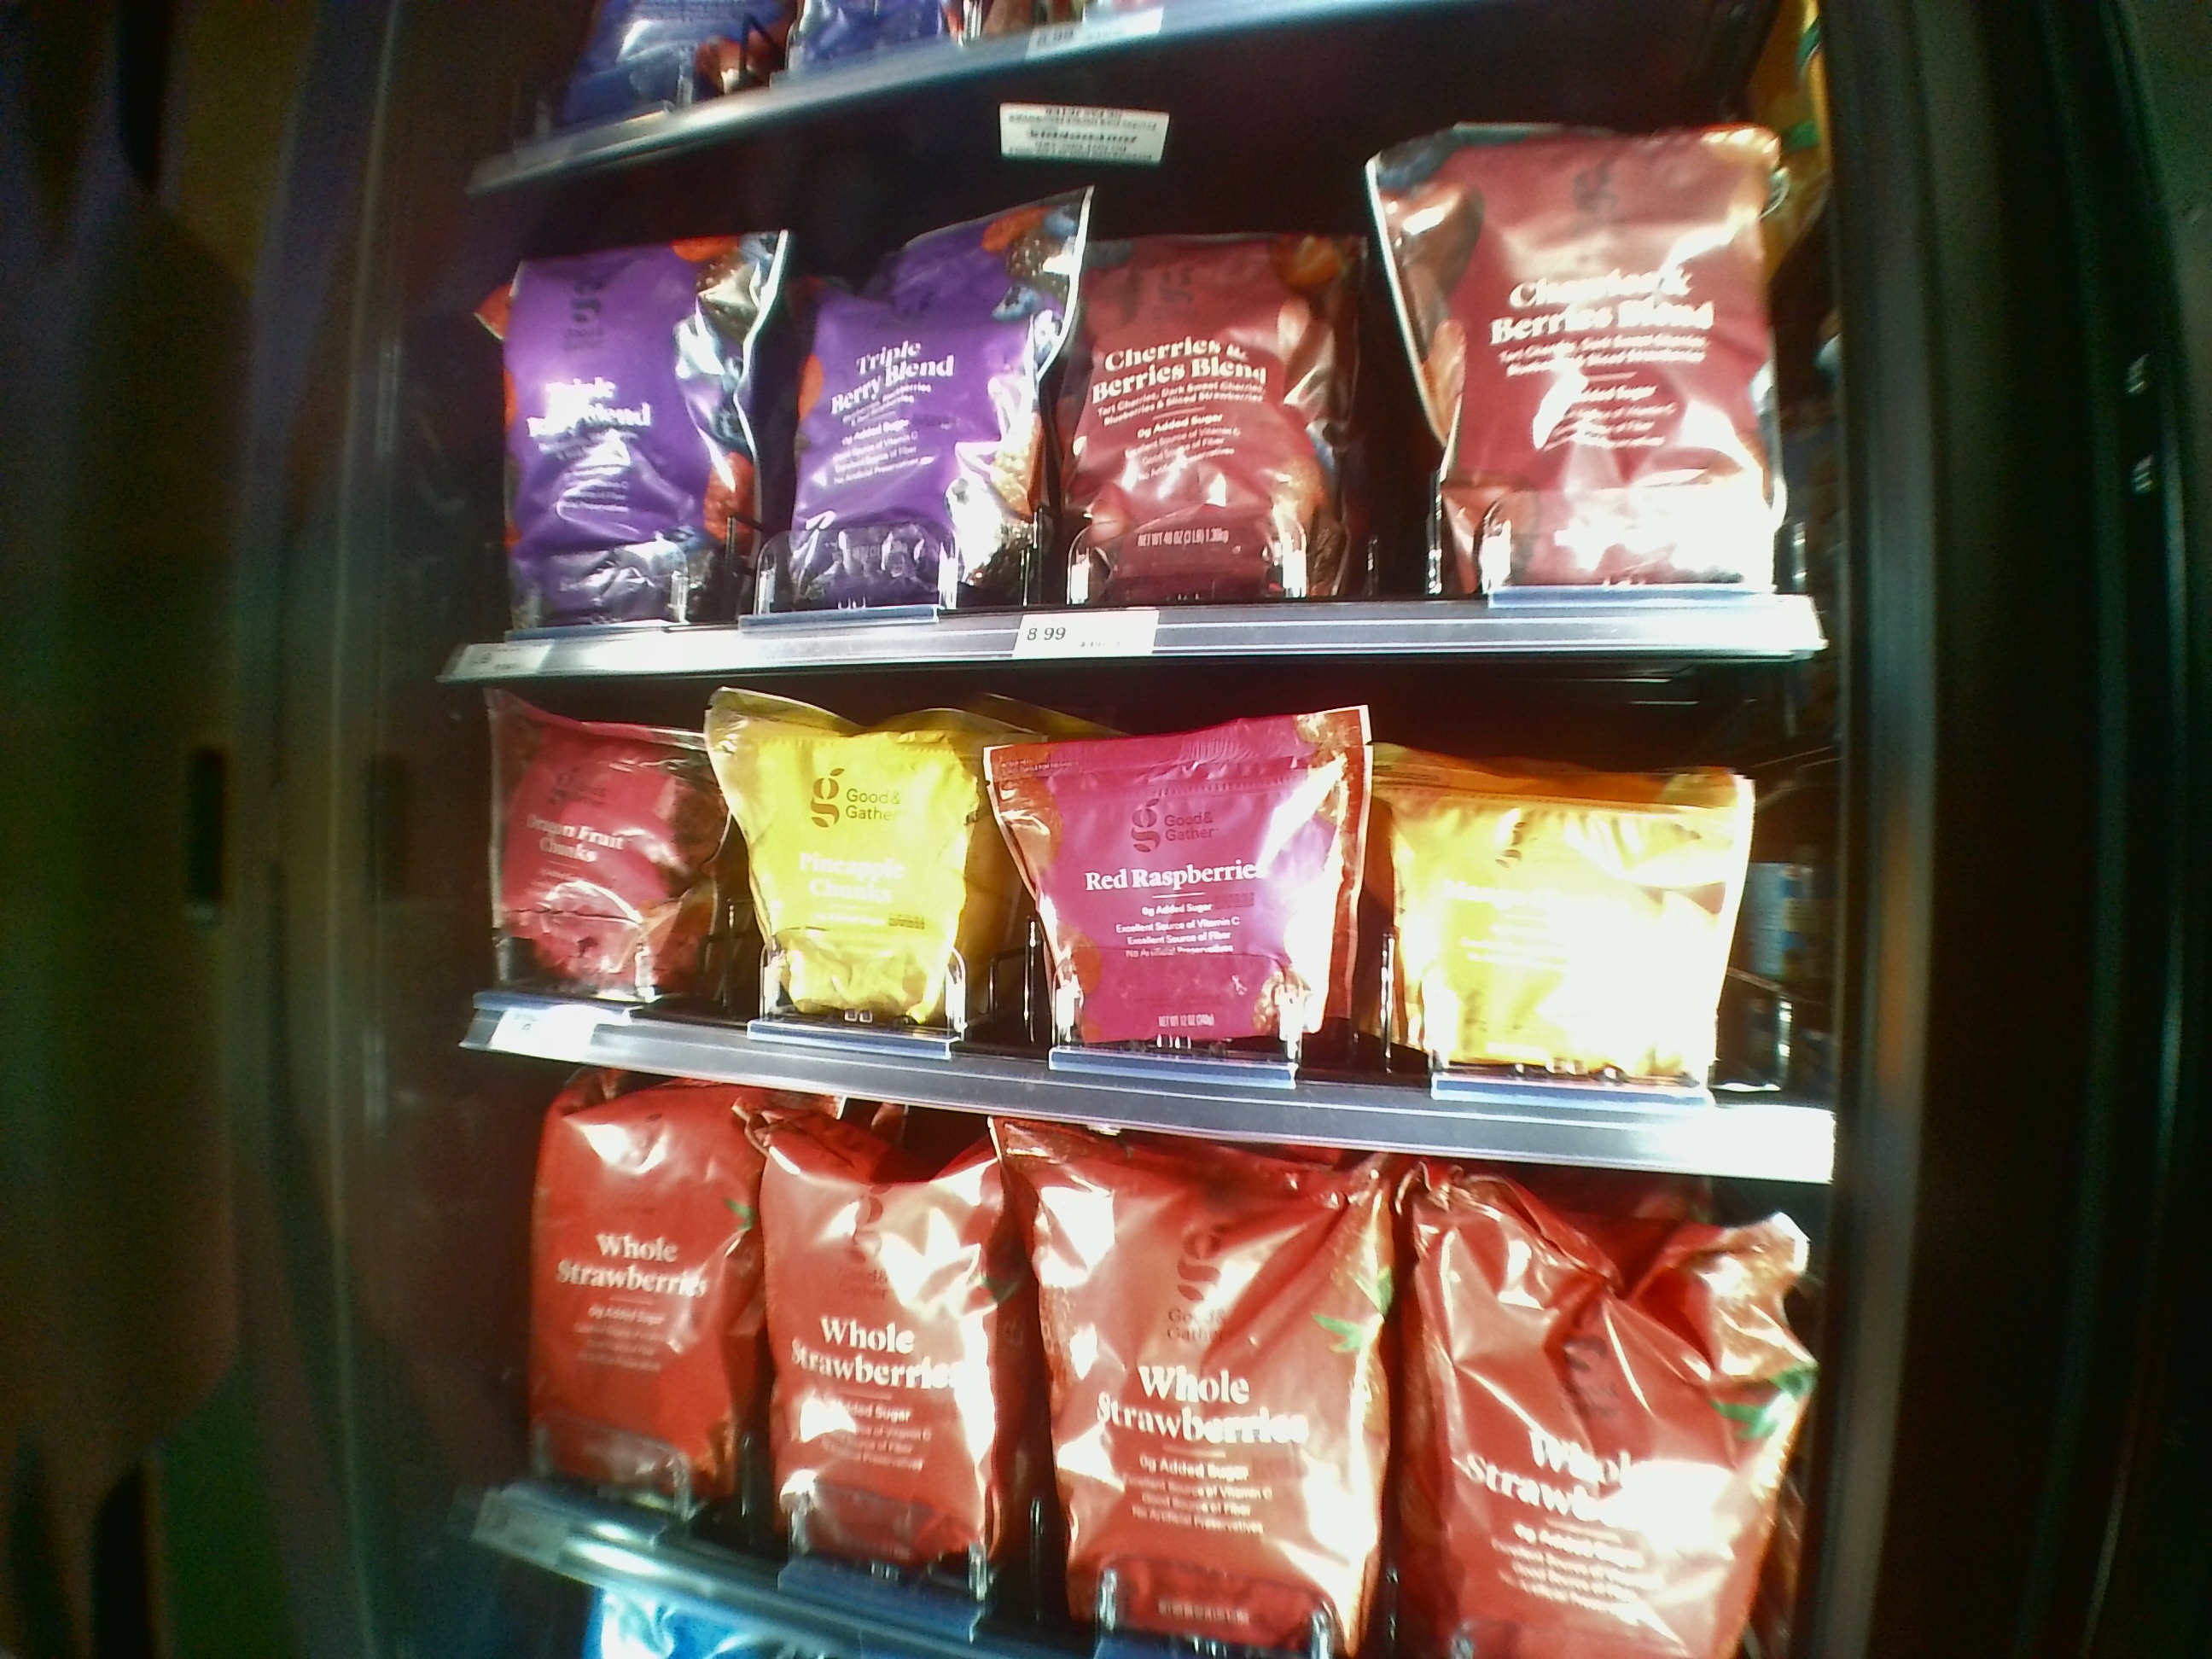shelf: (500, 92, 1803, 653), (472, 666, 1815, 1173), (496, 1133, 1817, 1647)
